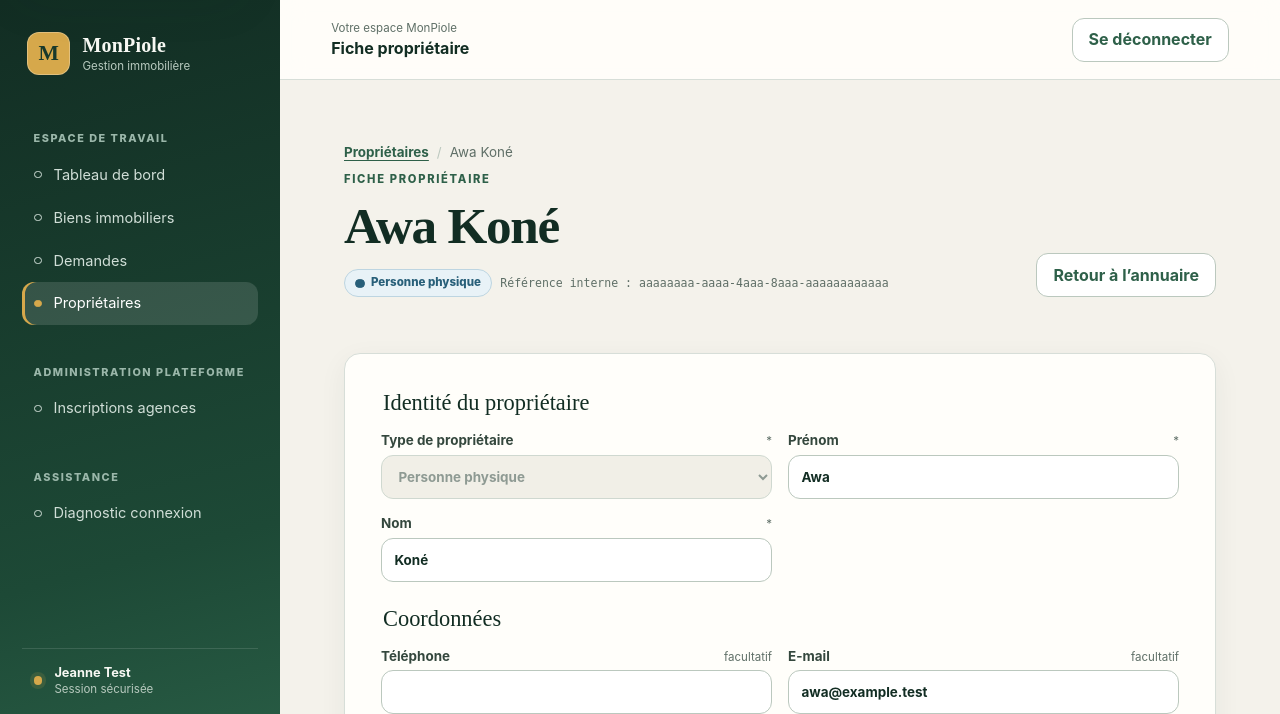
Test: annuaire Web des propriétaires › consulte et modifie une personne physique sans permettre le changement de type
Expected: the heading "Awa Koné" is shown, [344,197,559,254]
Expected: the dropdown labelled "Type de propriétaire" is disabled, [381,455,772,499]
Replace the text in the field labelled "Prénom" with "Aya" at x=984, y=477, box [788,455,1179,499]
(page scrolled)
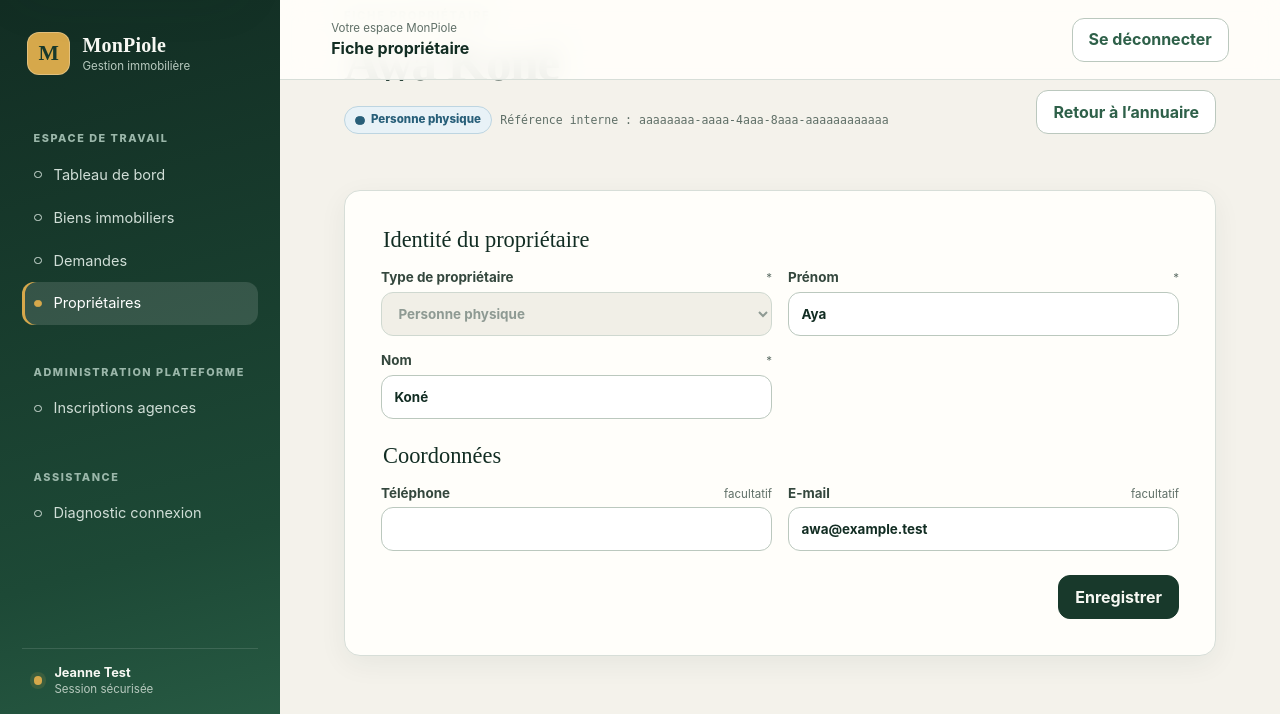
Click the button "Enregistrer" at x=1119, y=597, box [1058,575,1179,619]
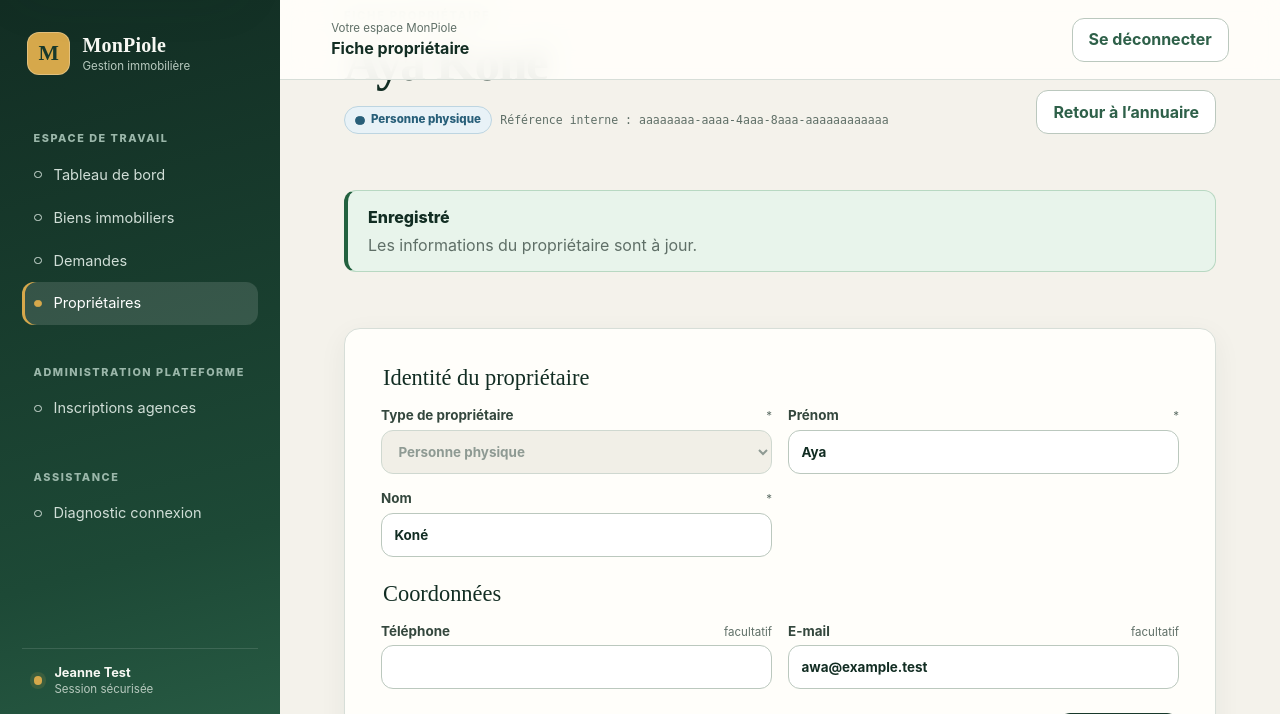
Now the text "Les informations du propriétaire sont à jour." is shown, box [368,235,697,255]
